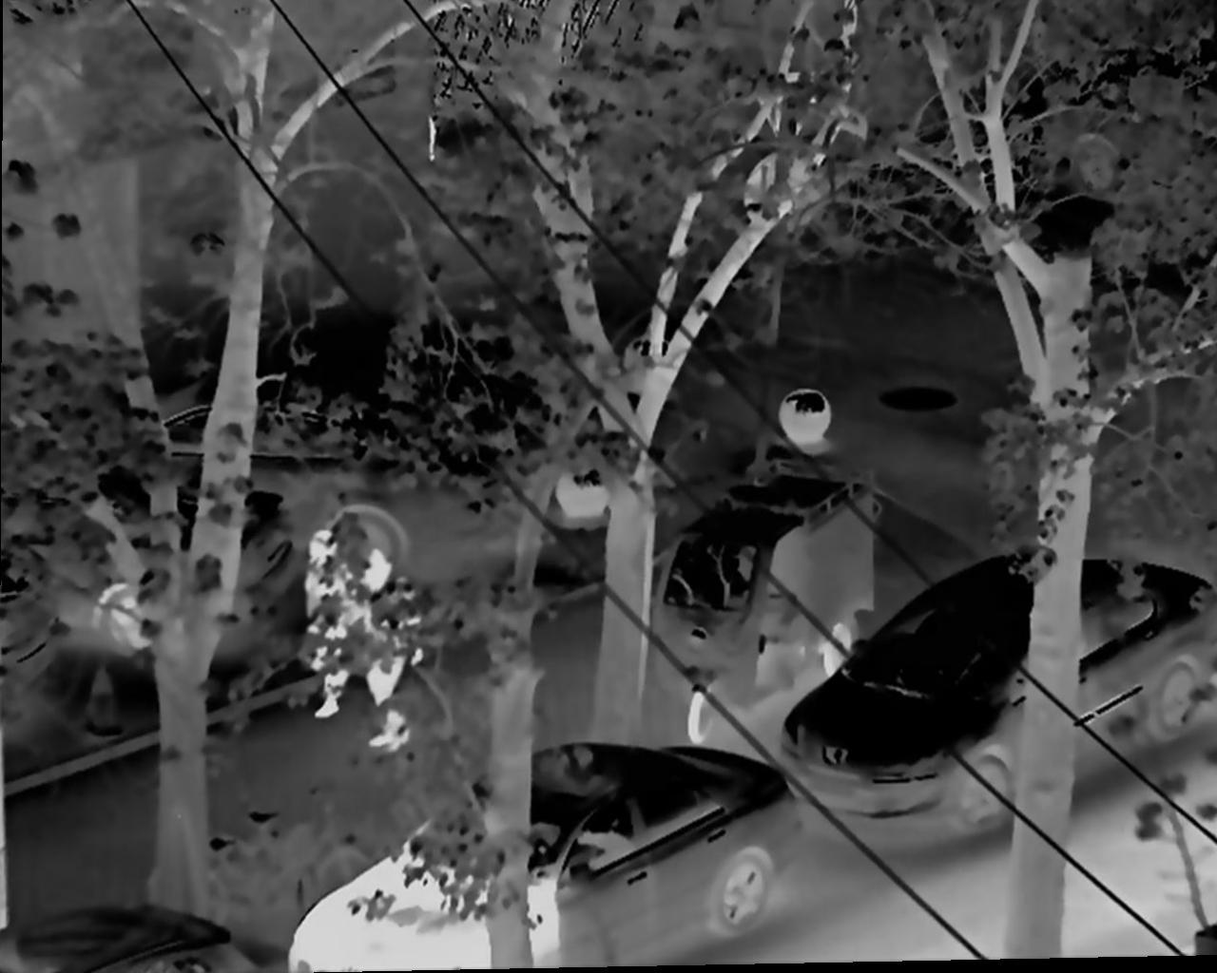person: (349, 544, 425, 758), (291, 530, 368, 719)
